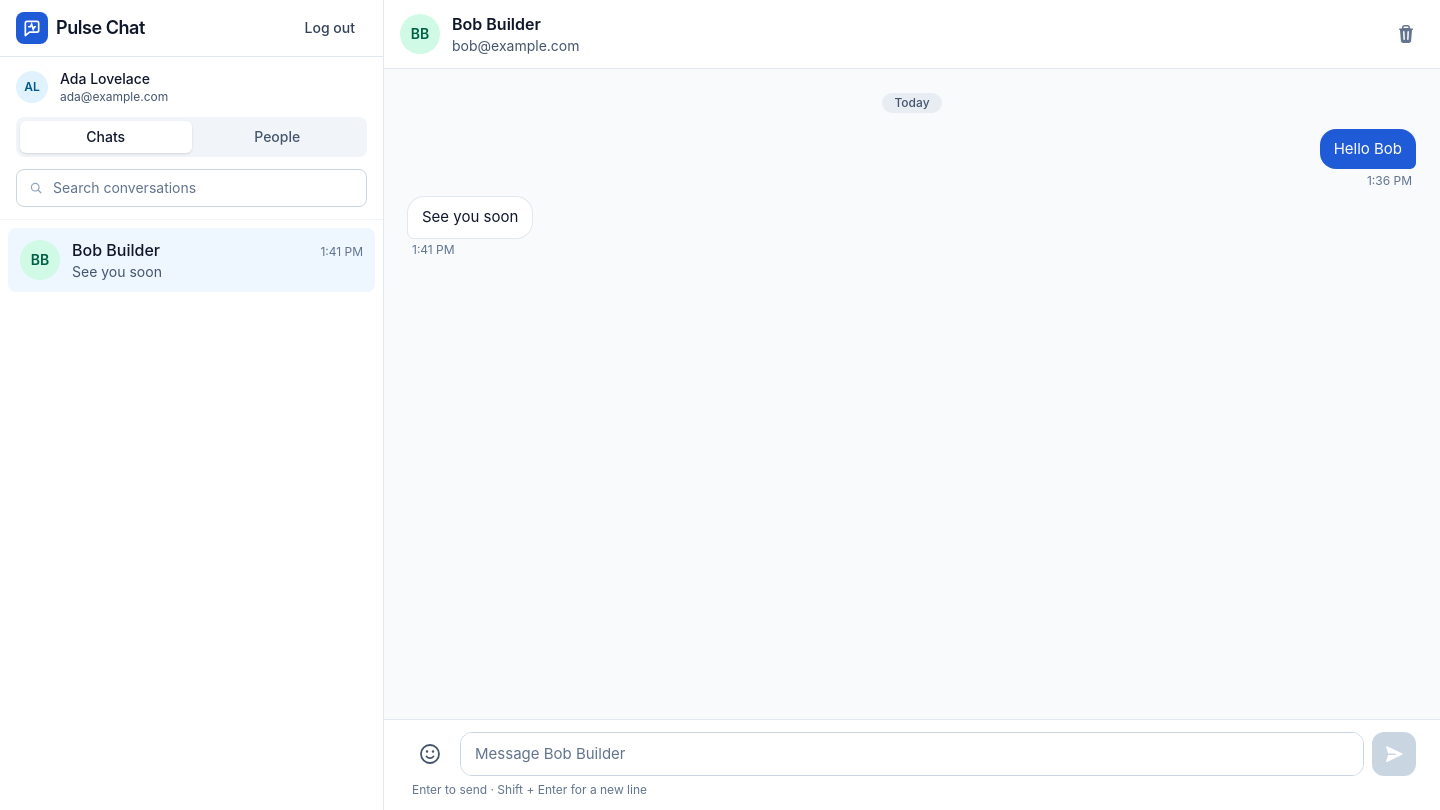
Test: sending messages › marks a failed send and retries it with the same clientMessageId
Check: the heading "Bob Builder" is shown, box [452,14,541,34]
Check: the button "Hello Bob" is shown, box [1320,129,1416,169]
Type "Retry me" into the text box labelled "Message Bob Builder" at point(912, 754), box [460,732,1364,776]
Then press Enter
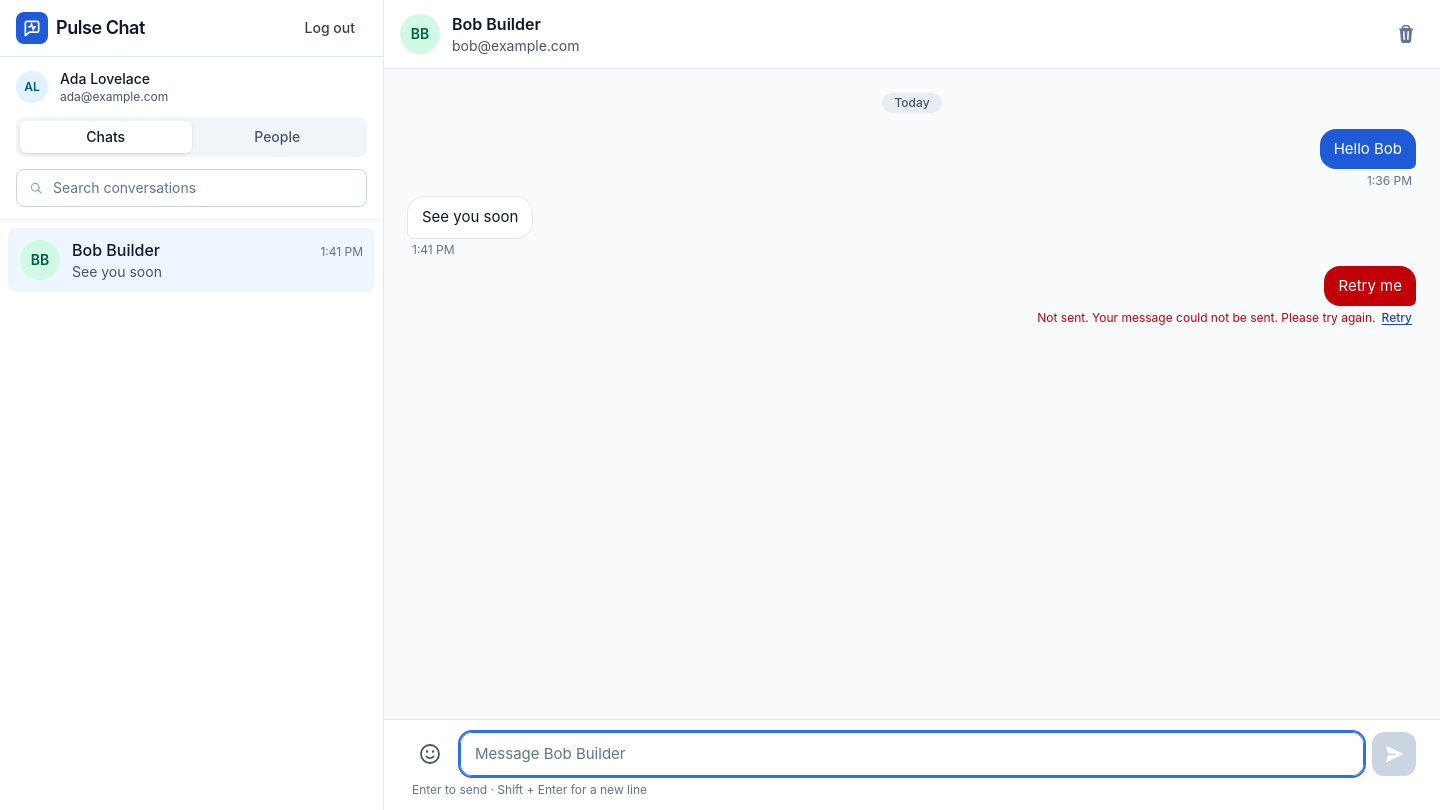
Check: the text "Not sent. Your message could not be sent. Please try again." is shown, box [1037,310,1376,326]
Click the button "Retry" at point(1397, 318), box [1382,310,1412,326]
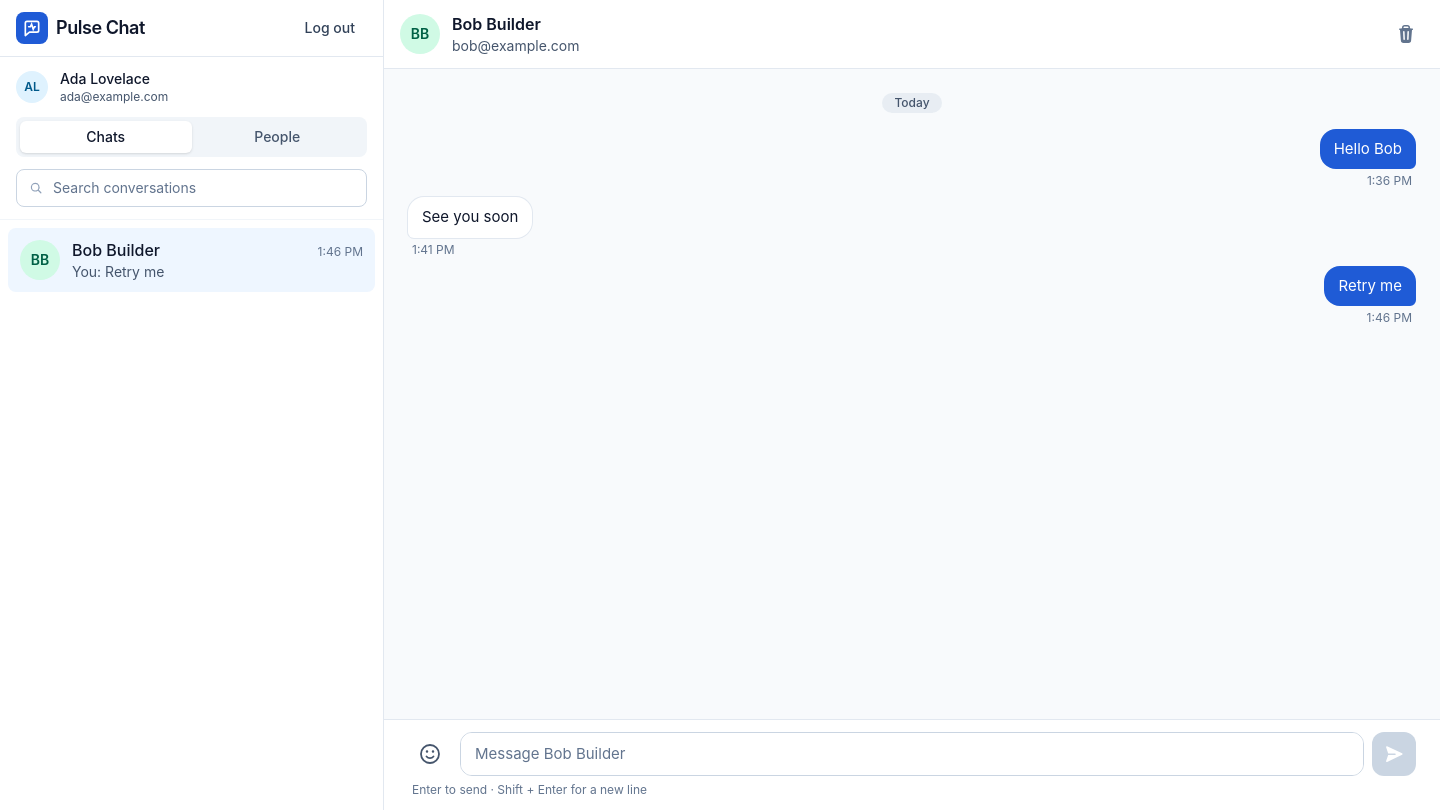
Check: the text "Not sent." is gone
Check: the number of buttons "Retry me" is 1, box [1324,266,1416,306]
